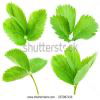Strawberry leaf: (51, 53, 77, 85), (5, 1, 28, 34), (25, 8, 47, 39), (73, 15, 99, 41), (55, 2, 74, 36), (5, 48, 30, 70), (2, 67, 30, 83), (29, 55, 48, 75)
